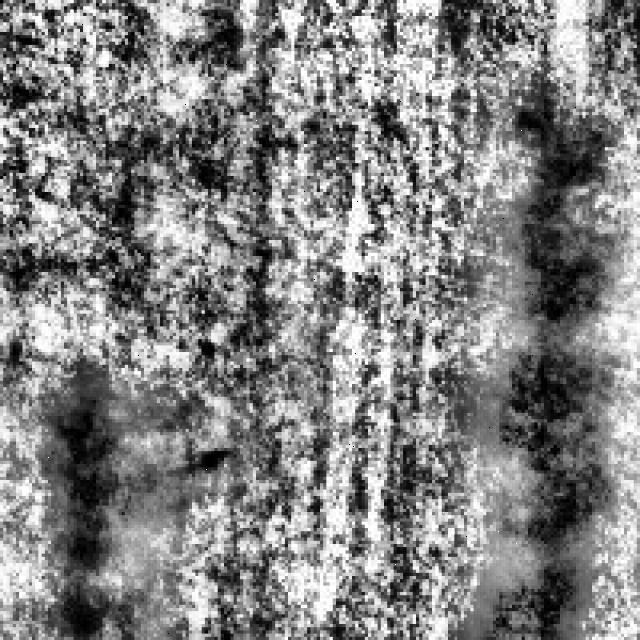Scratches: (492, 111, 614, 566), (51, 378, 176, 570), (474, 528, 604, 637)
